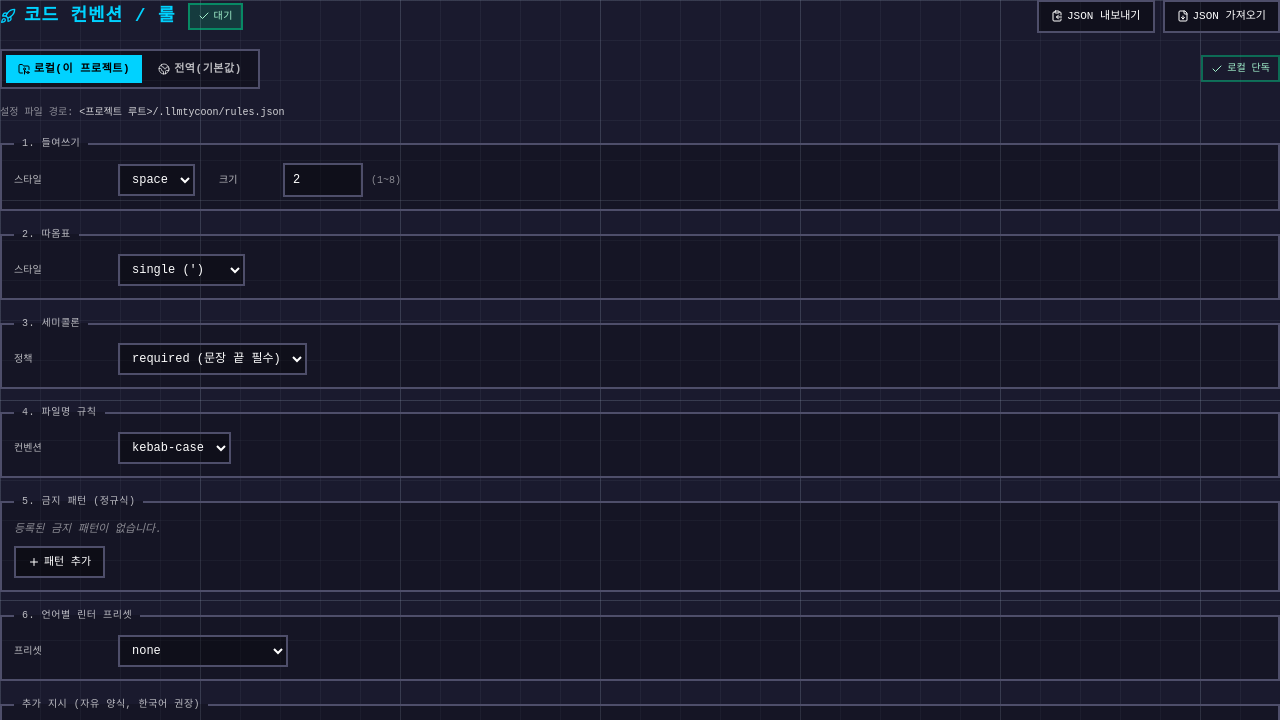
Test: V4. 저장 실패 시 form 이 baseline 으로 롤백되고 saveStatus=error
The width and height of the screenshot is (1280, 720).
Replace the text in the number field named "들여쓰기 크기" with "6" at x=323, y=180, box [283,163,363,197]
(page scrolled)
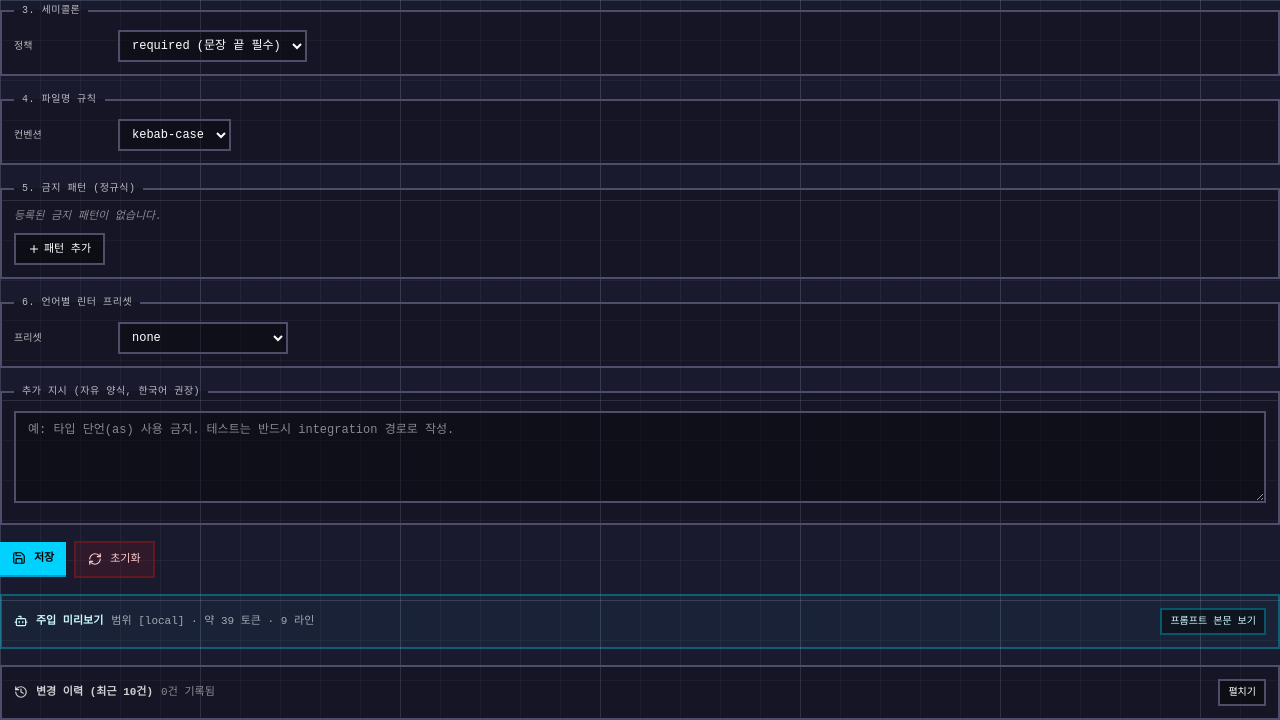
Click the button with aria-label "코드 규칙 저장" at x=33, y=559, box [0,542,66,576]
(page scrolled)
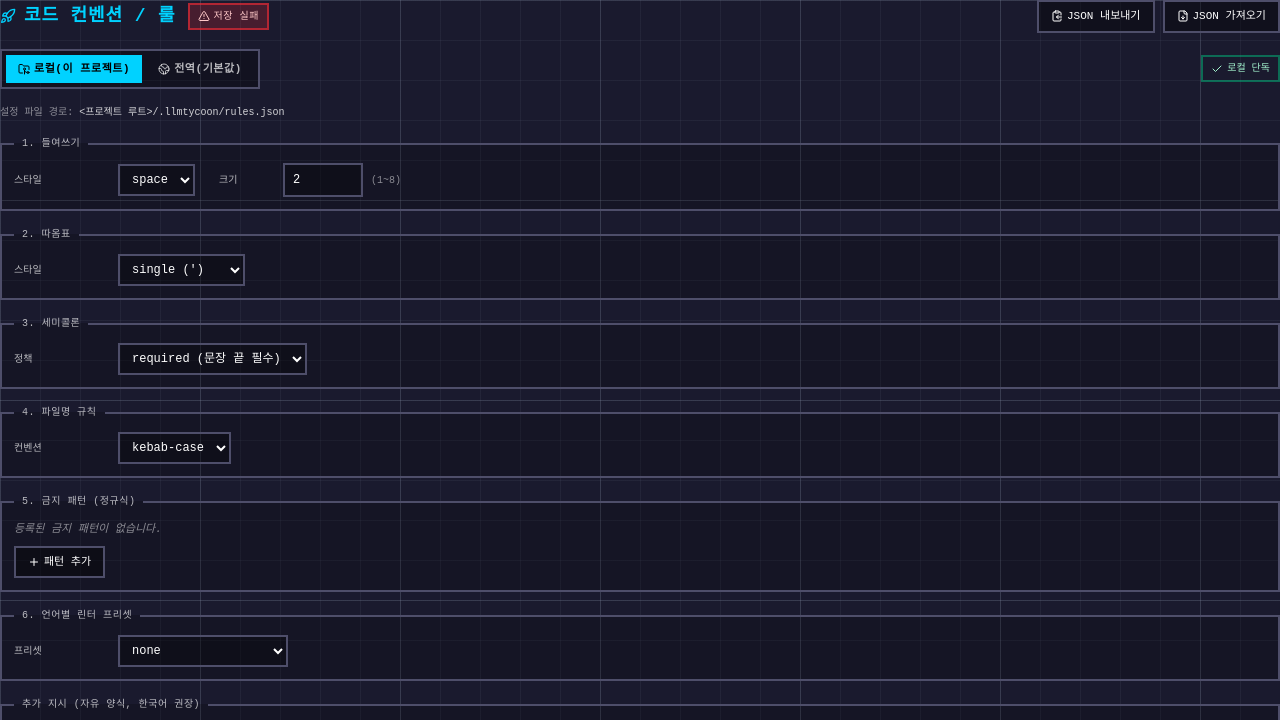
Now the message with test id "code-rules-save-status" reads "저장 실패", box [214,11,259,22]
